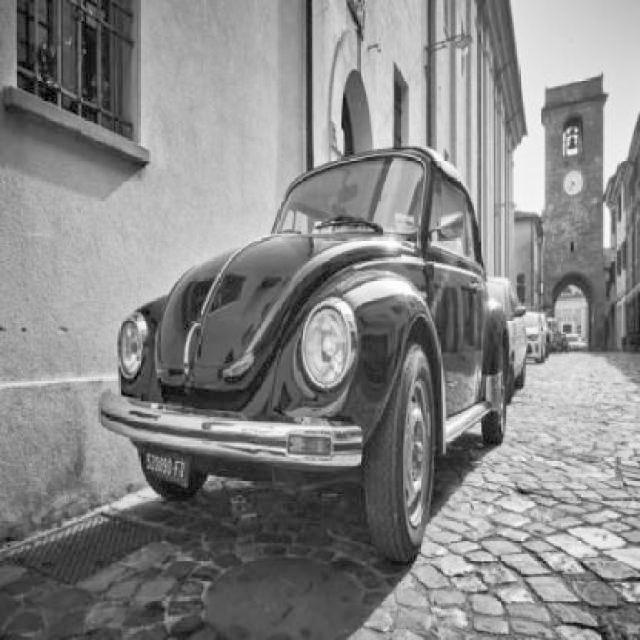car: (119, 140, 512, 522)
